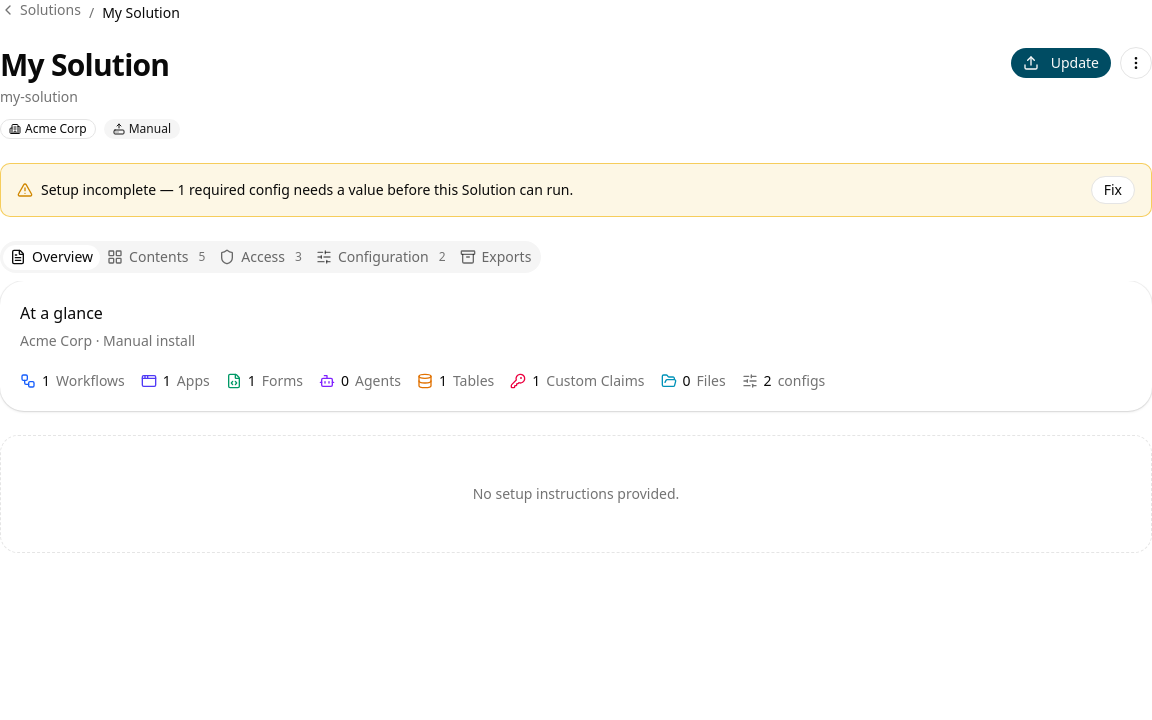
SolutionDetail › opens the hard-delete modal, lists deletion summary, disables Confirm until slug typed
Click the button with test id "solution-actions" at (1136, 63), box [1120,47,1151,79]
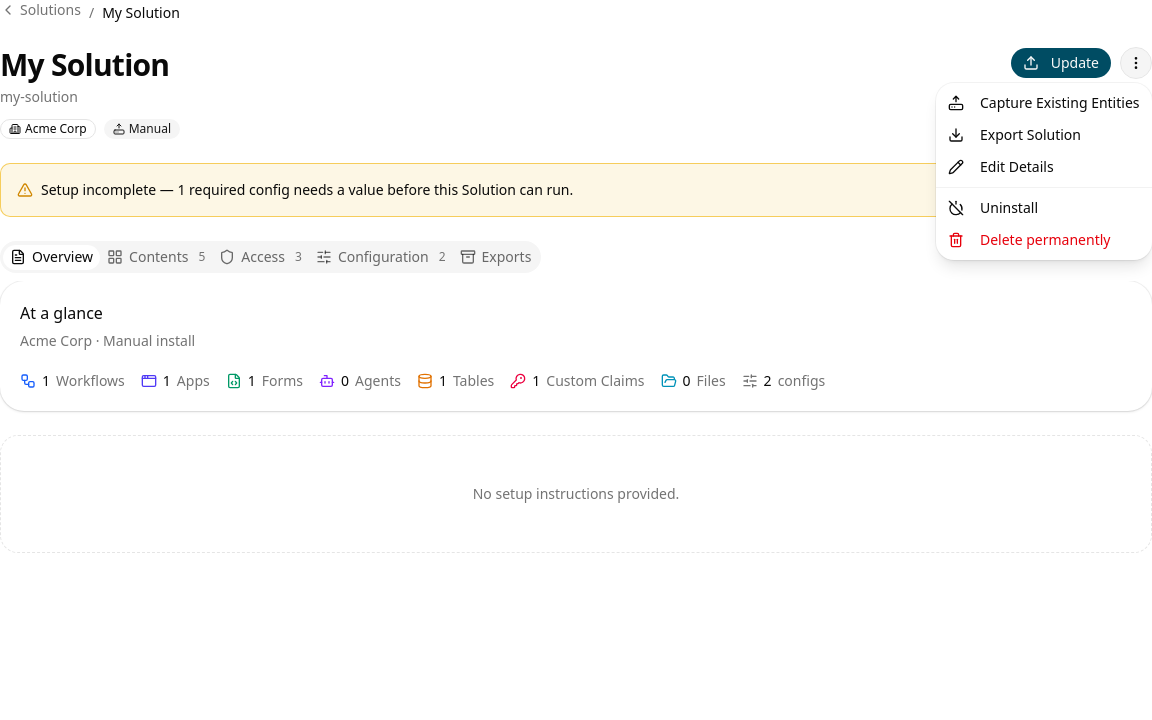
Click the menu item with test id "hard-delete-solution" at (1029, 240), box [948,230,1110,249]
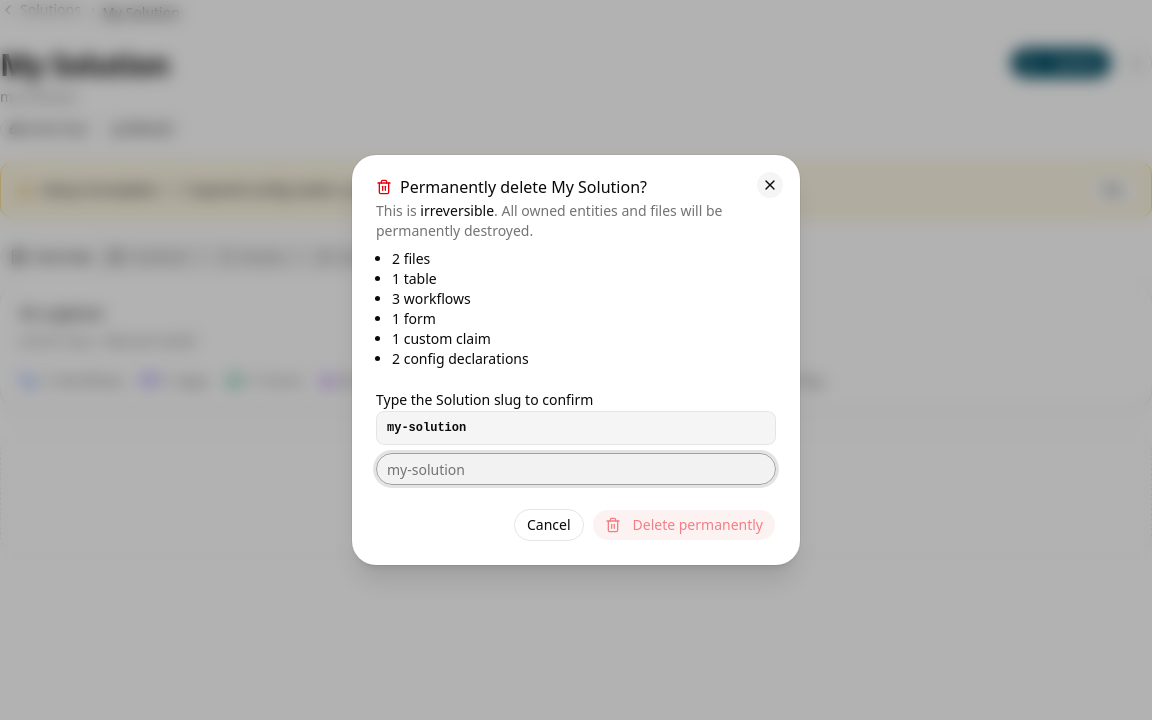
expect the dialog with test id "hard-delete-dialog" is shown: met, box [352,155,800,565]
expect the list with test id "deletion-summary-list" shows "2 files": met, box [392,249,529,368]
expect the list with test id "deletion-summary-list" shows "1 table": met, box [392,249,529,368]
Type "wrong-slug" into the field with test id "hard-delete-confirm-input" at (576, 469), box [376,453,776,485]
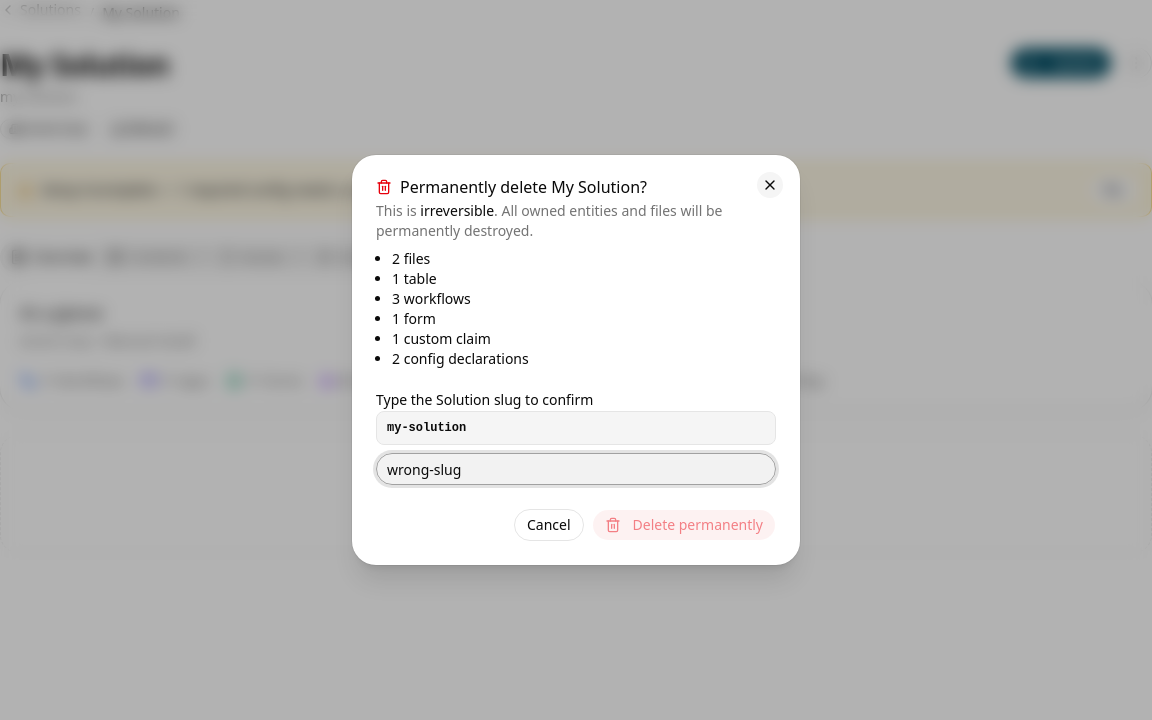
expect the button with test id "confirm-hard-delete" is disabled: met, box [592,509,776,541]
Replace the text in the field with test id "hard-delete-confirm-input" with "my-solution" at (576, 469), box [376,453,776,485]
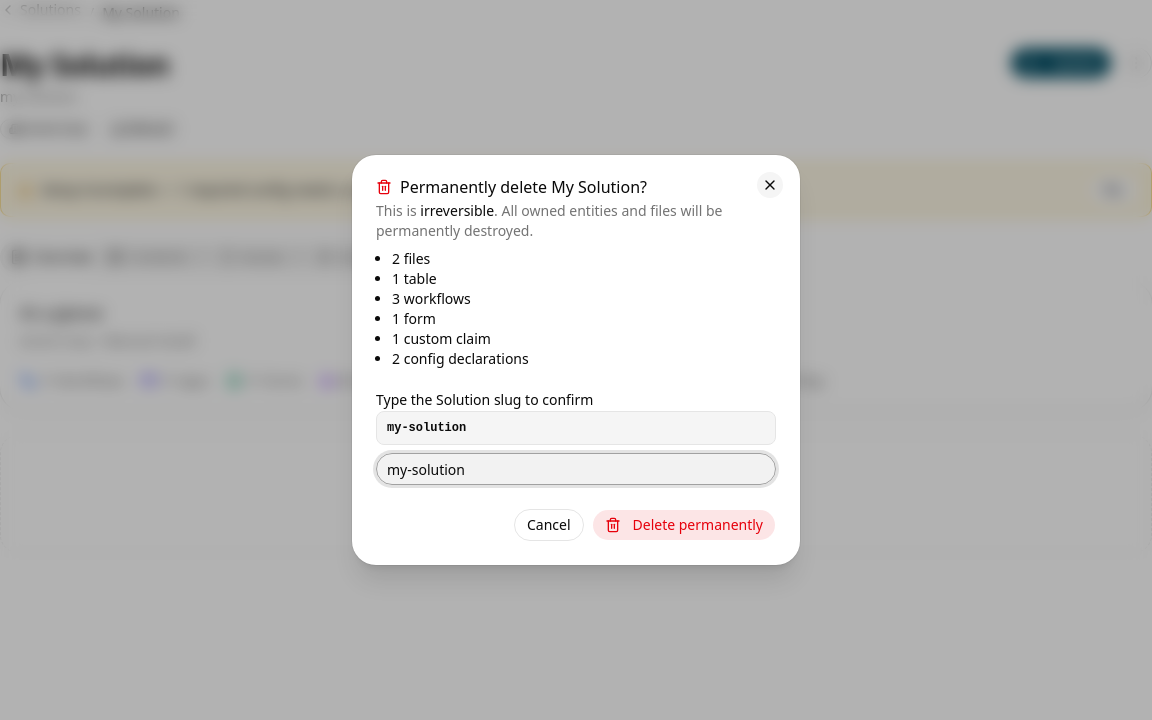
expect the button with test id "confirm-hard-delete" is enabled: met, box [592,509,776,541]
